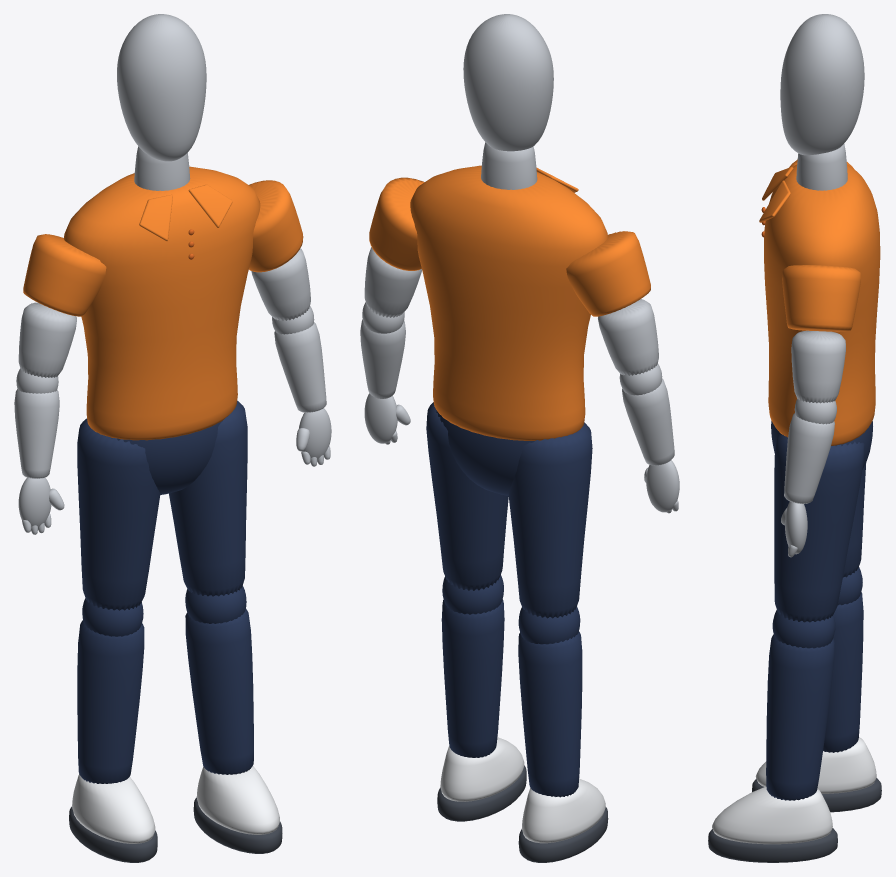
File: maniqui.glb
3 renders of one model, left to right at view 1: azimuth 30°, elevation 25°; view 2: azimuth 150°, elevation 25°; view 3: azimuth 270°, elevation 25°, orthographic.
Visible parts, largest first — view 1: Polo_torso, Pantalon_muslo_izq, Cabeza_sin_rostro, Pantalon_muslo_der, Pantalon_pierna_der, Pantalon_pierna_izq, Manga_izq, Tenis_der, Tenis_izq, Manga_der, Brazo_izq, Cadera_pantalon (+14 smaller); view 2: Polo_torso, Pantalon_muslo_izq, Cabeza_sin_rostro, Pantalon_pierna_izq, Pantalon_muslo_der, Pantalon_pierna_der, Manga_izq, Tenis_izq, Manga_der, Tenis_der, Cadera_pantalon, Brazo_izq (+12 smaller); view 3: Polo_torso, Pantalon_muslo_der, Cabeza_sin_rostro, Pantalon_pierna_der, Tenis_der, Manga_der, Pantalon_pierna_izq, Brazo_der, Antebrazo_der, Tenis_izq, Suela_der, Cuello (+8 smaller).
Part boxes in pixels (<box>): Polo_torso: <box>64,166,260,440</box>; Pantalon_muslo_izq: <box>77,418,160,610</box>; Cabeza_sin_rostro: <box>117,14,206,161</box>; Pantalon_muslo_der: <box>169,401,247,596</box>; Pantalon_pierna_der: <box>185,608,253,774</box>; Pantalon_pierna_izq: <box>77,620,144,783</box>; Manga_izq: <box>23,234,106,316</box>; Tenis_der: <box>196,766,279,834</box>; Tenis_izq: <box>72,774,155,843</box>; Manga_der: <box>249,180,303,272</box>; Brazo_izq: <box>18,302,76,377</box>; Cadera_pantalon: <box>111,420,222,494</box>; Polo_torso: <box>410,165,607,440</box>; Pantalon_muslo_izq: <box>508,422,592,618</box>; Cabeza_sin_rostro: <box>463,14,553,151</box>; Pantalon_pierna_izq: <box>518,631,582,797</box>; Pantalon_muslo_der: <box>426,402,508,590</box>; Pantalon_pierna_der: <box>441,599,504,757</box>; Manga_izq: <box>566,231,650,316</box>; Tenis_izq: <box>522,778,605,843</box>; Manga_der: <box>369,177,424,270</box>; Tenis_der: <box>440,737,524,801</box>; Cadera_pantalon: <box>435,408,534,495</box>; Brazo_izq: <box>598,299,658,375</box>; Polo_torso: <box>764,164,880,445</box>; Pantalon_muslo_der: <box>774,434,864,622</box>; Cabeza_sin_rostro: <box>780,14,864,155</box>; Pantalon_pierna_der: <box>766,634,834,800</box>; Tenis_der: <box>712,786,832,844</box>; Manga_der: <box>782,265,860,331</box>; Pantalon_pierna_izq: <box>823,592,863,752</box>; Brazo_der: <box>791,330,845,403</box>; Antebrazo_der: <box>784,413,834,503</box>; Tenis_izq: <box>755,737,876,793</box>; Suela_der: <box>708,828,837,862</box>; Cuello: <box>796,144,847,190</box>.
Size of the model in its own units: 0.696 by 1.73 by 0.3368.
